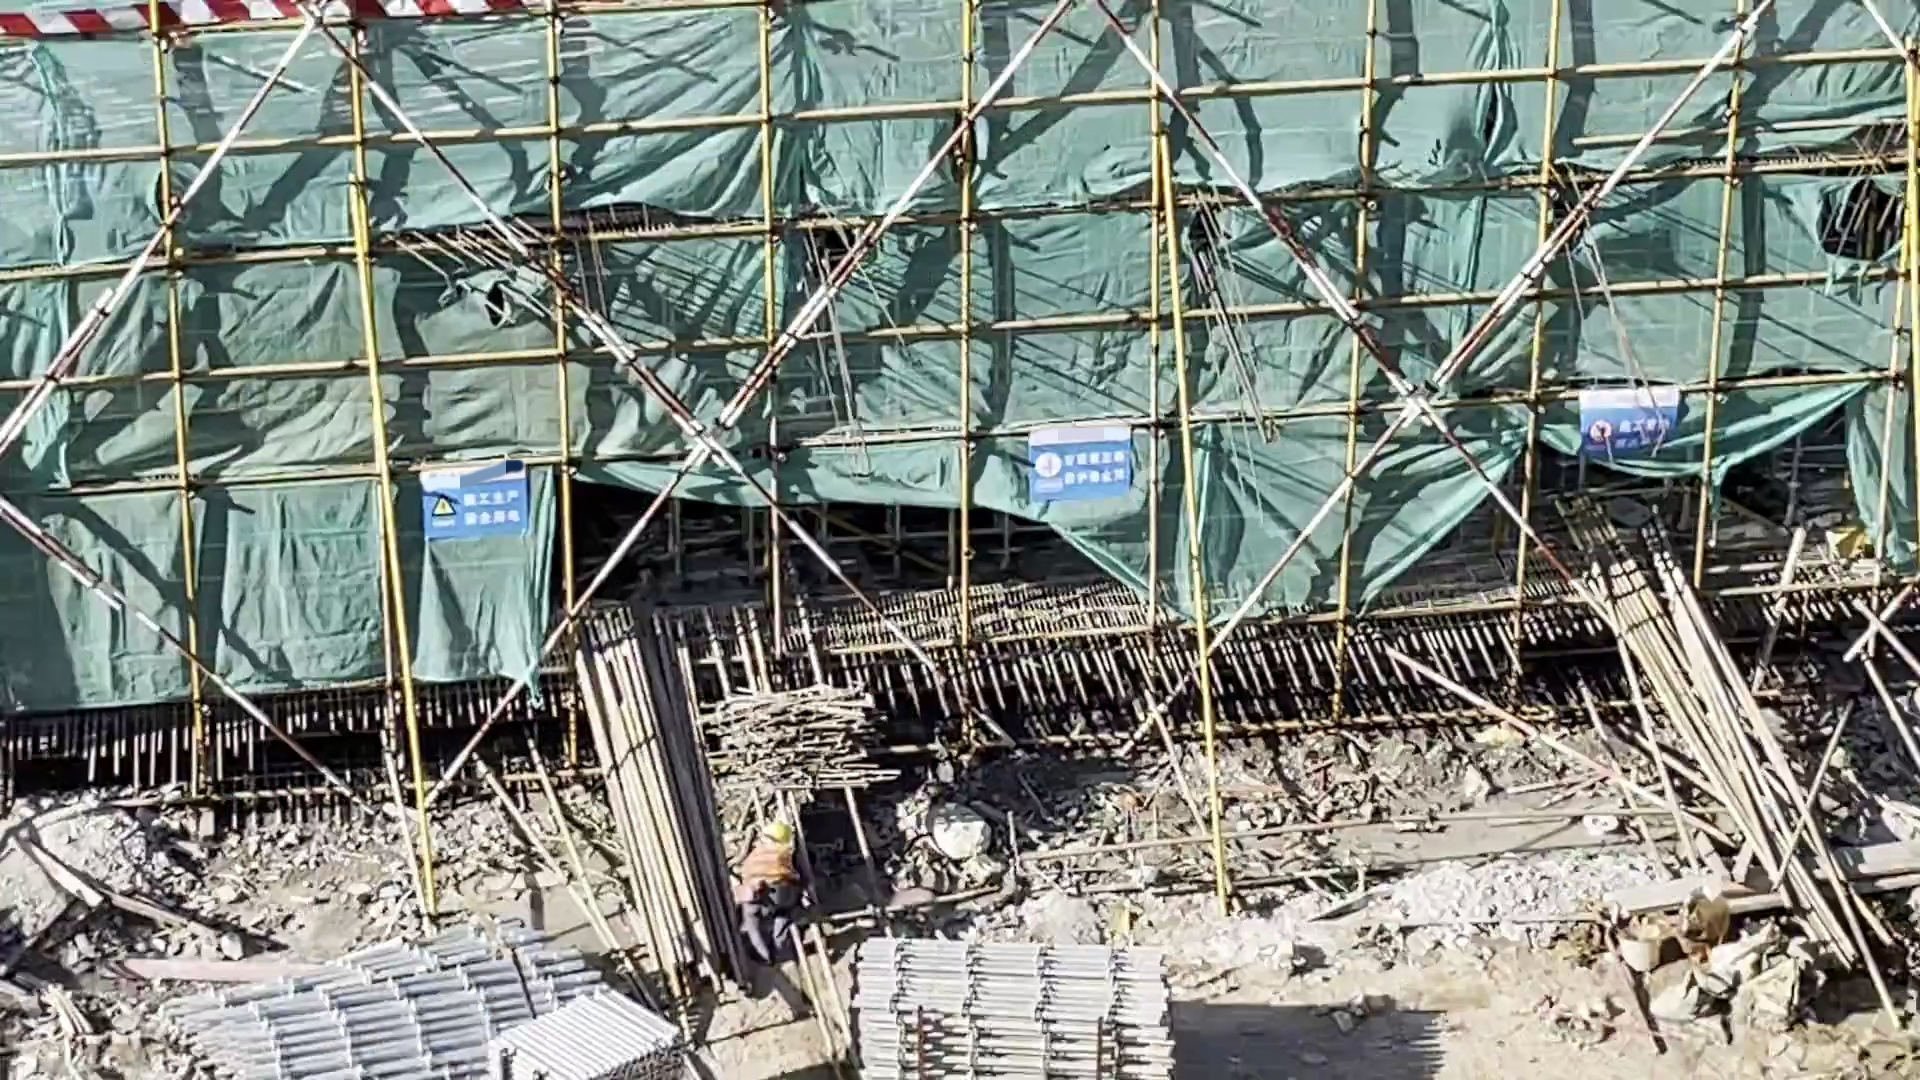helmet: (761, 809, 794, 851)
person: (731, 811, 803, 951)
scaffold: (149, 956, 666, 1080), (853, 912, 1153, 1080), (488, 996, 645, 1080)
slogan: (1024, 437, 1118, 497), (1593, 391, 1664, 457), (424, 479, 498, 532)
vest: (731, 842, 793, 909)
